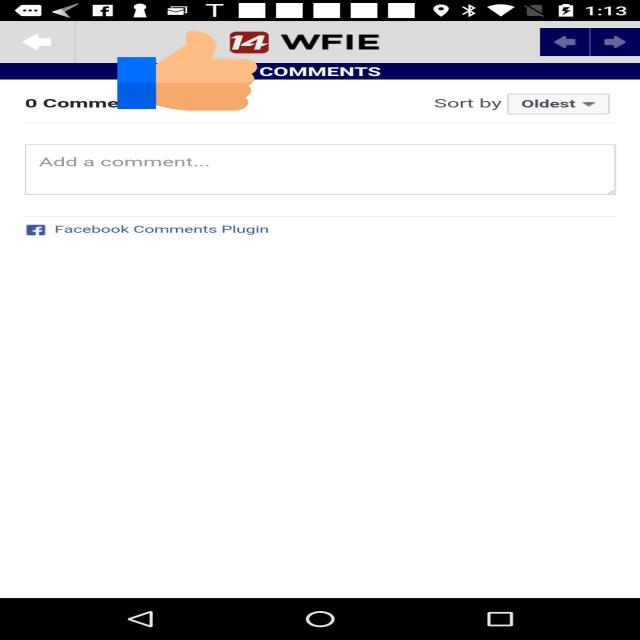privacy zuckering: (118, 28, 258, 112)
